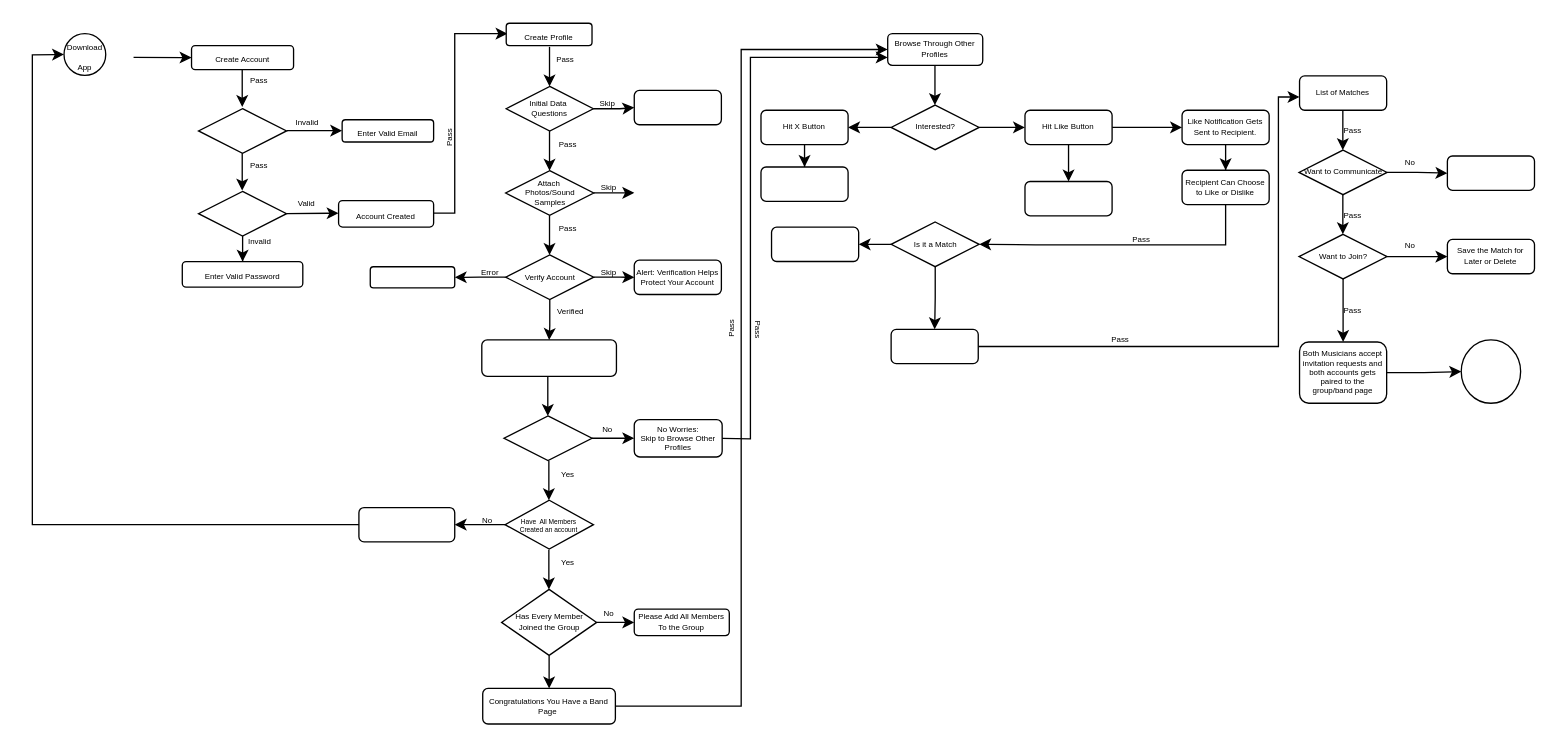
Some shapes in this 1558 by 747 pixel diagram are drawn without their labels. Each missing label, with the box of its shape:
Account Verified Stamp Attached to Profile: (480, 339, 616, 376)
Alert: Bio increases chances of a match: (633, 89, 721, 125)
All Members Should Have an Account: (358, 506, 455, 542)
Already in a Band: (503, 415, 592, 461)
Dislikes Can Be Deleted or Kept in a Queue: (770, 226, 859, 261)
End: (1460, 339, 1521, 403)
Enter Email: (197, 107, 287, 153)
Enter Password: (197, 190, 287, 236)
Match: (890, 328, 978, 364)
Matches Aren't Required to Reply: (1446, 155, 1534, 190)
Please Try Again: (369, 265, 455, 288)
User Can Scroll Until Max Like Limit is Reached: (1024, 180, 1112, 216)
User Has Unlimited Dislikes: (760, 166, 848, 201)
